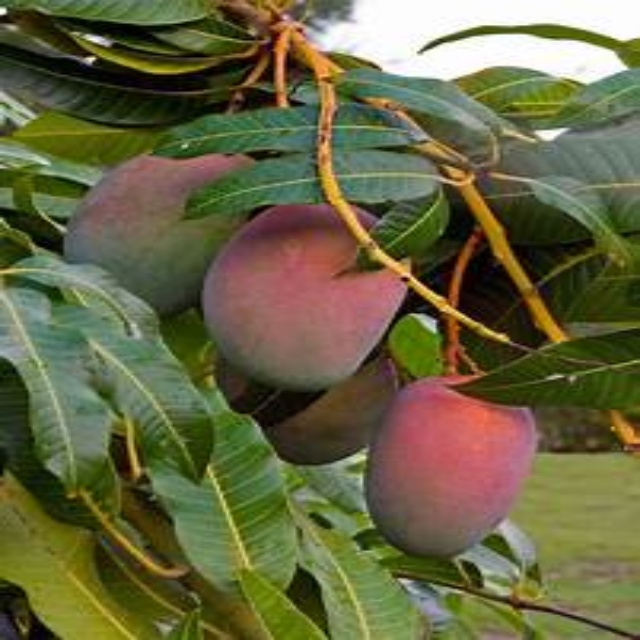mango: (212, 205, 412, 386), (71, 144, 252, 303), (386, 368, 525, 553)
